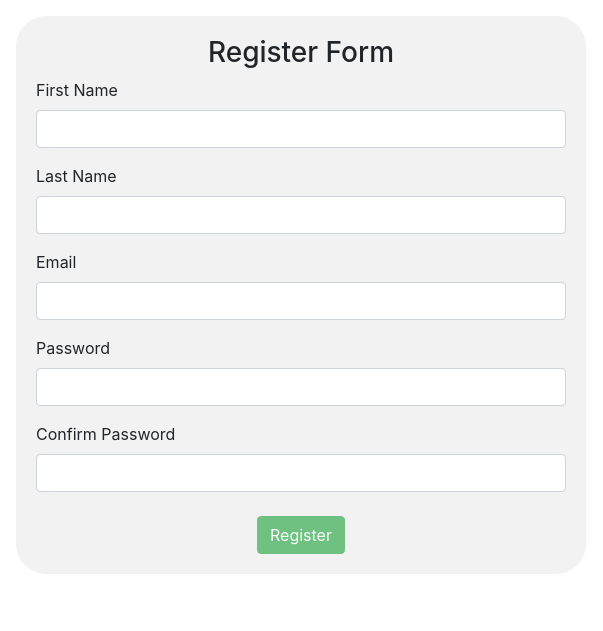
register page › email validation › fill email with not proper email, expect error saying *Please enter correct email, ex: test@gmail.com
In the field named "email" below "Email": x=301, y=301 [36, 282, 566, 320], type "qwerty"
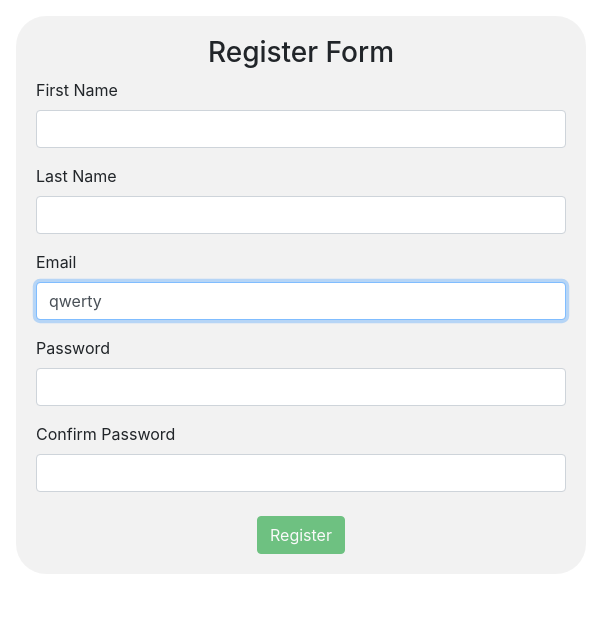
Focus the password field named "confirmPassword" below "Confirm Password": x=301, y=473 [36, 454, 566, 492]
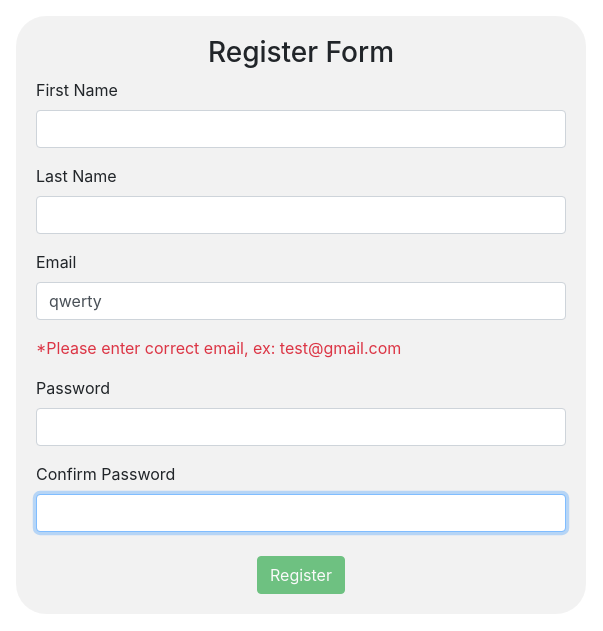
Now the text "*Please enter correct email, ex: test@gmail.com" is shown, box [36, 338, 401, 358]
